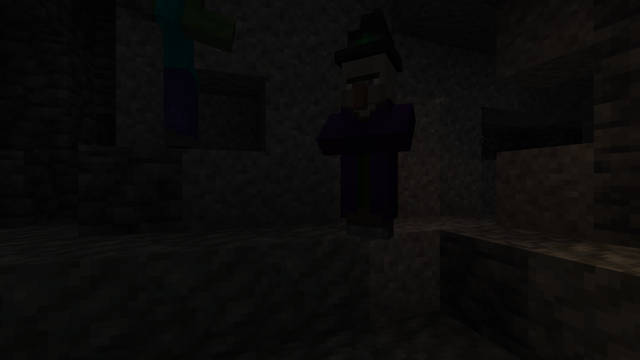sorcieres: (334, 42, 409, 244)
zombies: (146, 1, 210, 151)
